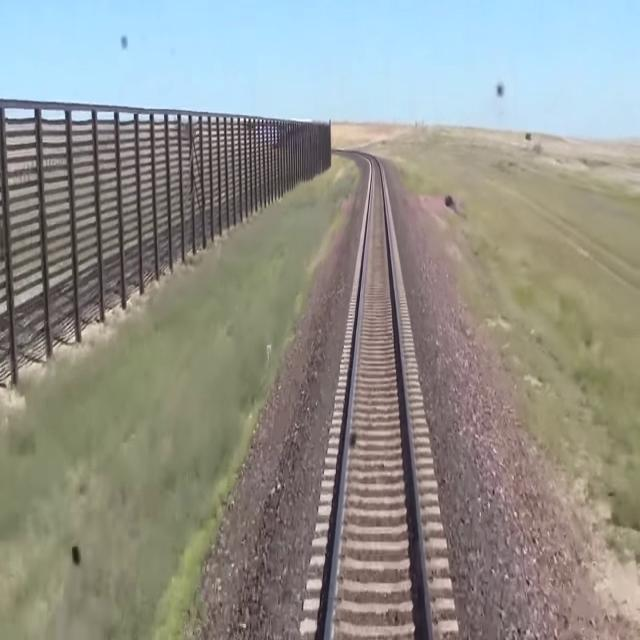rail-track: (328, 150, 427, 639)
